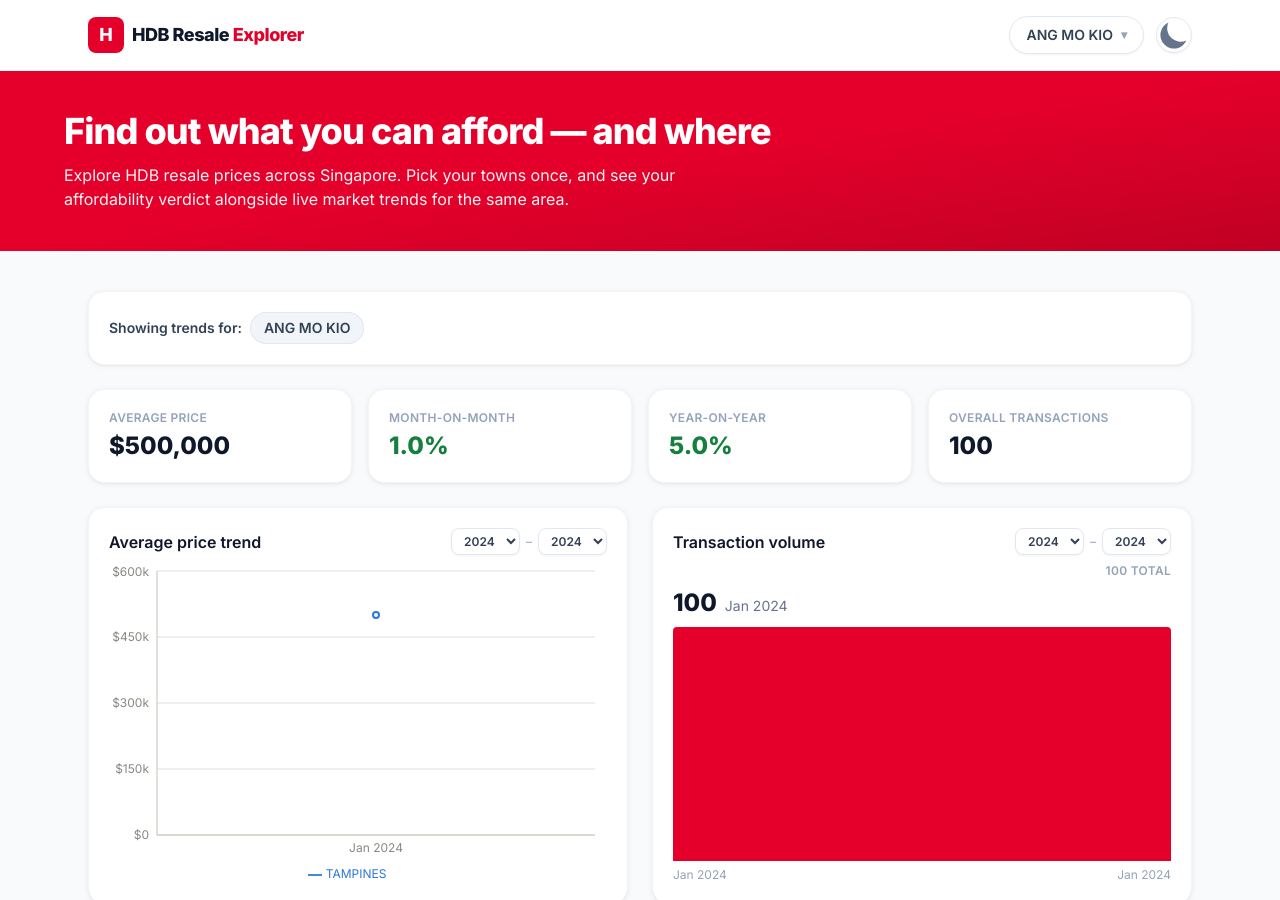
Test case: PropertyExplorerPage › selecting a town in the header dropdown also drives the trends section
Click the button "ANG MO KIO ▾": [1077, 35] box left=1010, top=16, right=1144, bottom=54
(page scrolled)
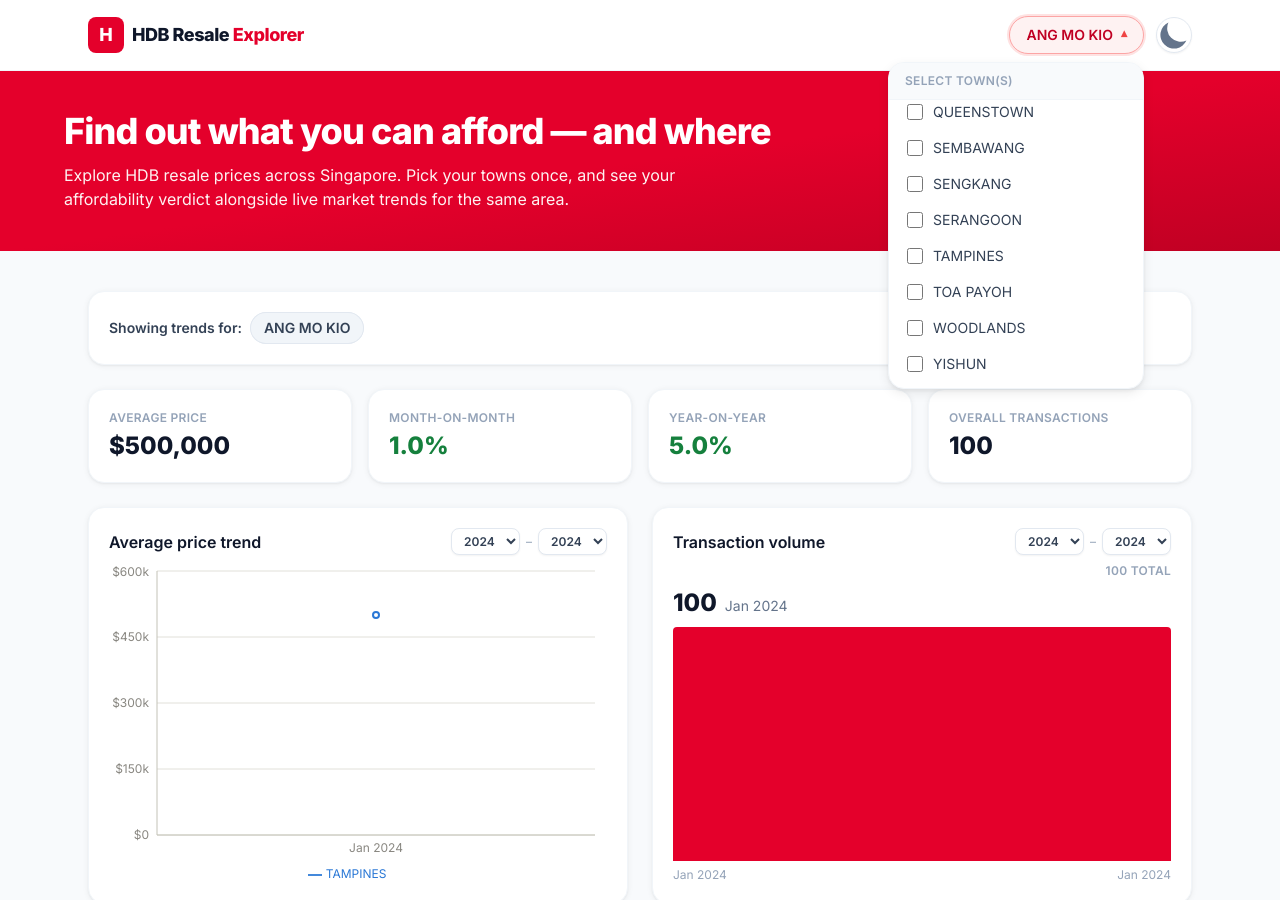
Click the checkbox labelled "TAMPINES": [915, 256] box left=907, top=248, right=923, bottom=264
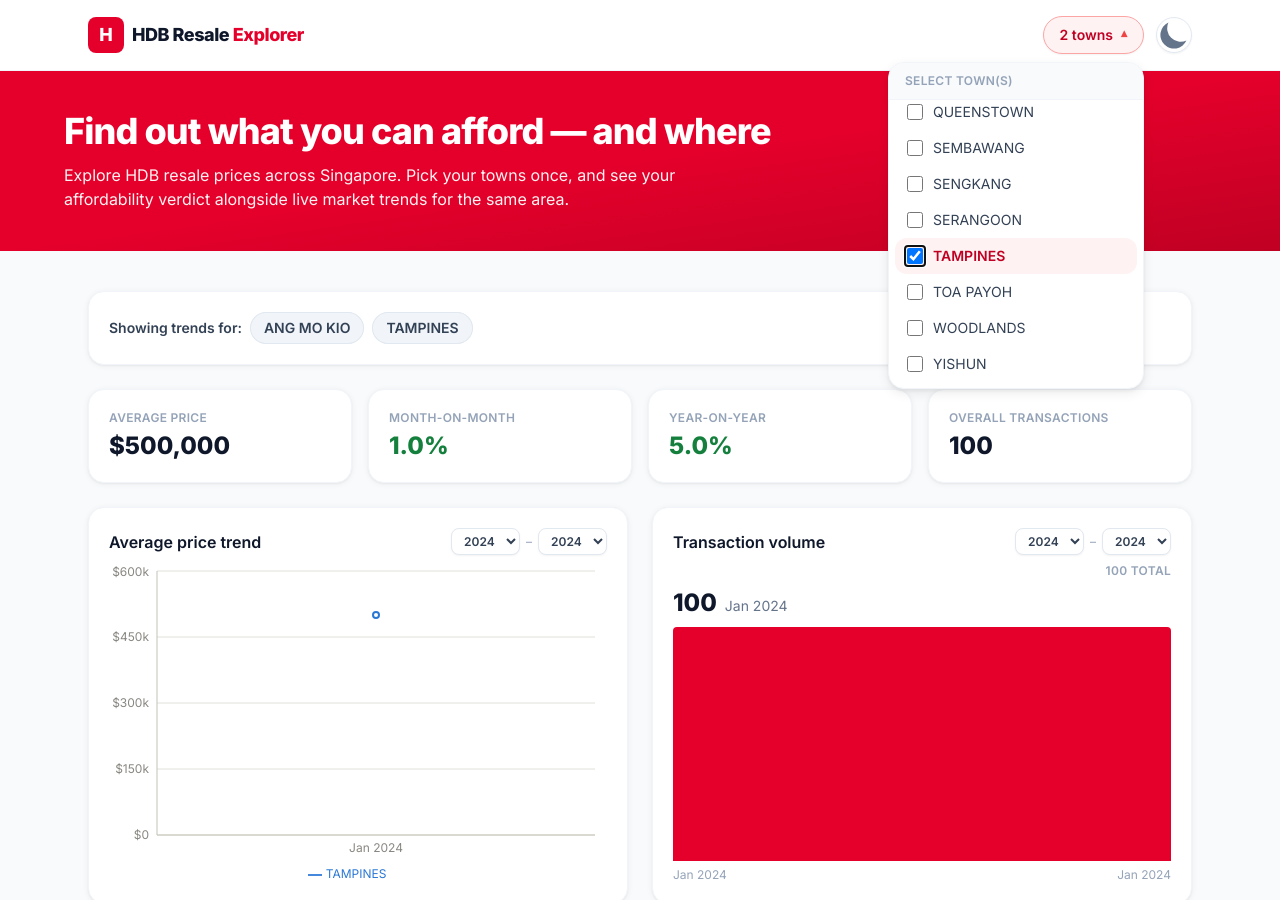
Now the text "TAMPINES" next to "ANG MO KIO" is shown, box left=386, top=319, right=459, bottom=336
